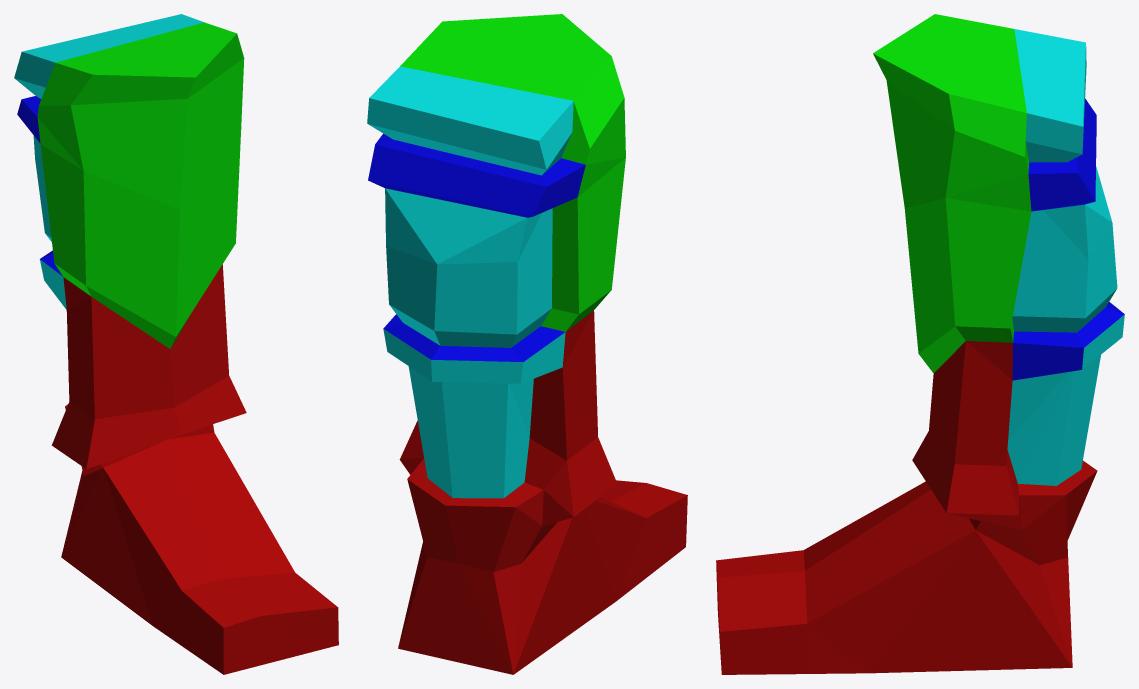
The model's file is Chr_LegRight_Male_Static_01.fbx.
3 views of the same model, side by side, from view 1: azimuth 30°, elevation 25°; view 2: azimuth 150°, elevation 25°; view 3: azimuth 270°, elevation 25° (orthographic). The views are drawn at different scales.
Visible parts, largest first — view 1: Chr_LegRight_Male_01; view 2: Chr_LegRight_Male_01; view 3: Chr_LegRight_Male_01.
Boxes of the visible parts, x1,y1,x2,y2 form: Chr_LegRight_Male_01: (14, 14, 338, 674); Chr_LegRight_Male_01: (367, 14, 687, 674); Chr_LegRight_Male_01: (716, 14, 1124, 674).
Bounding box in the file's own units: 14.06 × 40.45 × 25.73.
